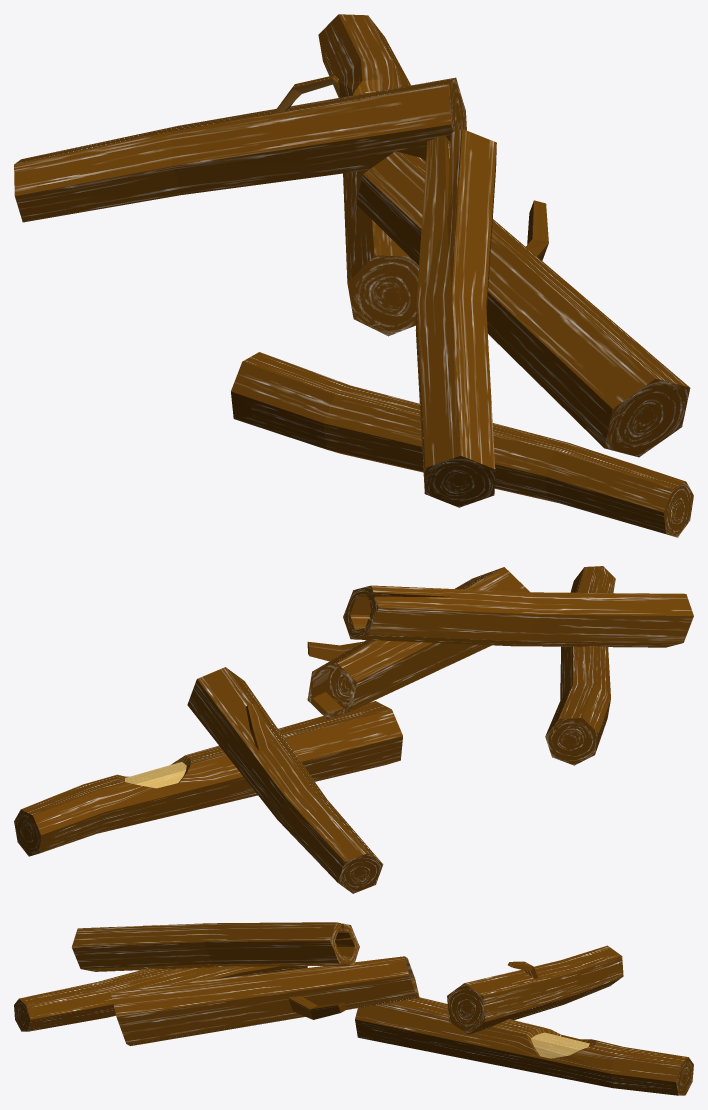
The model's file is Troncos.obj.
The picture shows the model from 3 angles, top to bottom: view 1: azimuth 30°, elevation 25°; view 2: azimuth 150°, elevation 25°; view 3: azimuth 270°, elevation 25°; orthographic projection. The views are drawn at different scales.
Parts seen in each view (by area): view 1: troncos.004; view 2: troncos.004; view 3: troncos.004.
Part boxes in pixels (<box>): troncos.004: <box>14,14,693,537</box>; troncos.004: <box>14,566,693,893</box>; troncos.004: <box>14,922,693,1095</box>.
Size of the model in its own units: 12.88 by 5.54 by 26.44.
